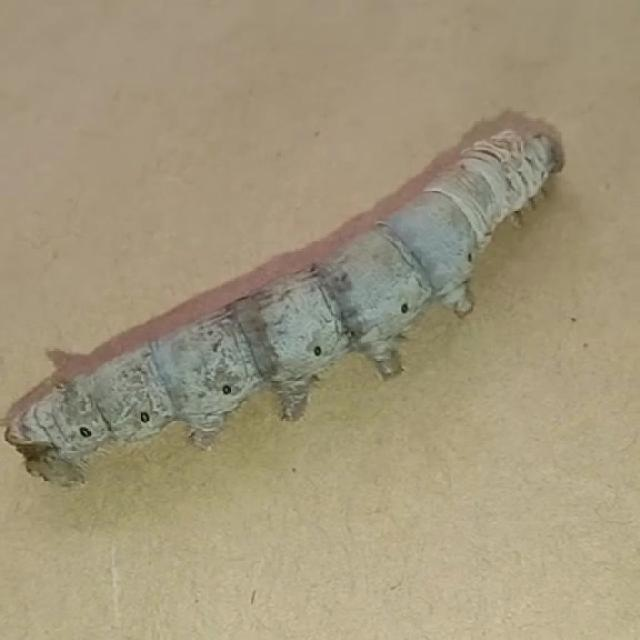Grasserie: (0, 99, 577, 538)
